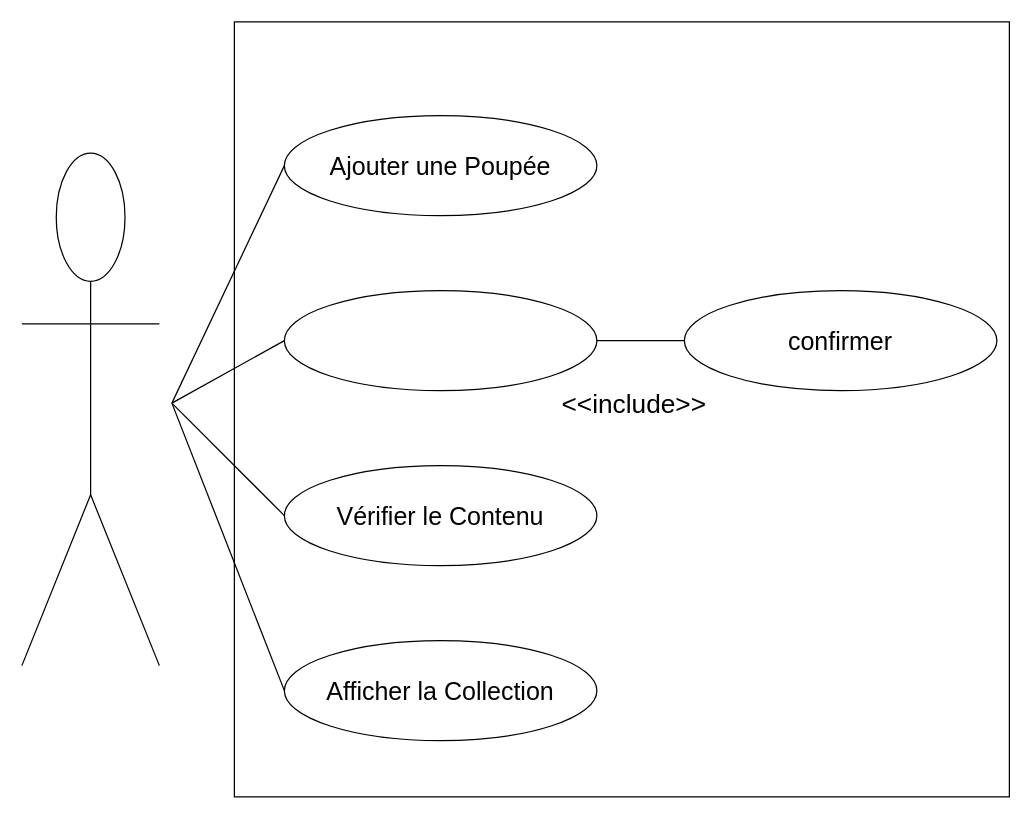
Image size: 1031x819. Some labels were removed from this diagram. Each missing label, with the box of its shape:
Actor: (21, 152, 159, 666)
Supprimer une Poupée: (283, 289, 597, 391)
